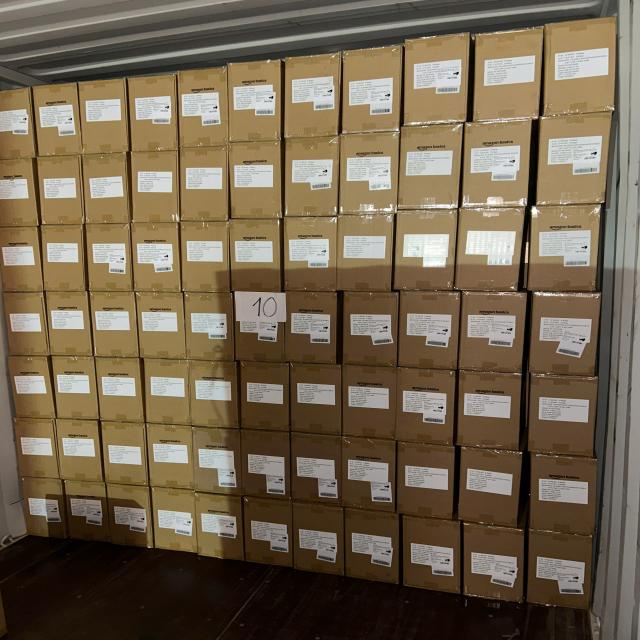Carton: (544, 16, 616, 116), (538, 114, 613, 206), (531, 204, 604, 292), (475, 28, 541, 121), (405, 34, 469, 128), (464, 121, 532, 209), (530, 294, 600, 379), (458, 206, 526, 292), (529, 372, 599, 454), (531, 456, 601, 538), (462, 290, 528, 372), (529, 532, 595, 613), (461, 448, 524, 531), (340, 49, 400, 136), (402, 126, 462, 212), (460, 369, 524, 449), (396, 209, 457, 292), (464, 521, 524, 604), (400, 292, 460, 372), (341, 133, 399, 215), (283, 57, 339, 141), (403, 519, 461, 599), (398, 444, 457, 522), (399, 365, 457, 444), (284, 136, 339, 216), (343, 506, 398, 586), (338, 213, 394, 291), (228, 63, 280, 146), (343, 292, 398, 370), (343, 437, 395, 516), (342, 364, 396, 440), (282, 215, 335, 292), (232, 143, 284, 221), (290, 432, 342, 509), (232, 220, 284, 296), (284, 292, 337, 366), (129, 76, 179, 154), (293, 364, 345, 439), (292, 502, 343, 578), (181, 68, 229, 148), (78, 80, 128, 156), (242, 429, 293, 503), (182, 145, 230, 222), (237, 359, 288, 431), (183, 221, 233, 294), (236, 290, 286, 362), (194, 425, 244, 496), (131, 154, 180, 226), (189, 359, 239, 429), (245, 499, 294, 570), (194, 495, 243, 566), (133, 222, 181, 294), (80, 152, 128, 224), (36, 84, 82, 158), (187, 294, 237, 362), (38, 156, 84, 228), (86, 223, 132, 294), (98, 360, 146, 425), (146, 426, 194, 491), (137, 295, 184, 361), (47, 292, 93, 359), (44, 224, 88, 294), (143, 357, 190, 422), (94, 294, 140, 360), (108, 486, 153, 553), (154, 491, 200, 556), (57, 418, 103, 483), (53, 358, 99, 422), (6, 354, 52, 418), (64, 480, 110, 544), (20, 478, 67, 540), (105, 425, 150, 488), (0, 225, 41, 294), (2, 295, 45, 360), (0, 160, 38, 231), (14, 417, 58, 478), (0, 89, 33, 161)
